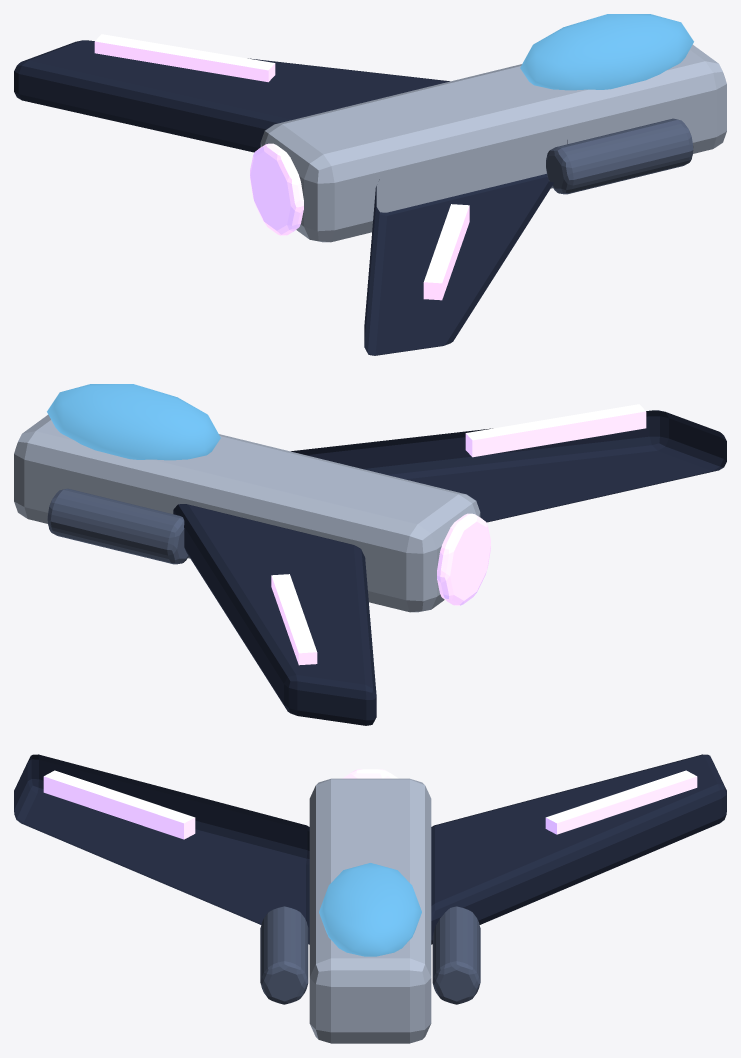
Rendered from enemy_interceptor.glb.
3 views of the same model, one above another, from view 1: azimuth 30°, elevation 25°; view 2: azimuth 150°, elevation 25°; view 3: azimuth 270°, elevation 25° (orthographic). The views are drawn at different scales.
Visible parts, largest first — view 1: enemy_interceptor; view 2: enemy_interceptor; view 3: enemy_interceptor.
Part boxes in pixels (<box>): enemy_interceptor: <box>14,14,726,355</box>; enemy_interceptor: <box>14,384,726,725</box>; enemy_interceptor: <box>14,754,726,1043</box>.
Size of the model in its own units: 1.59 by 0.386 by 1.99.
